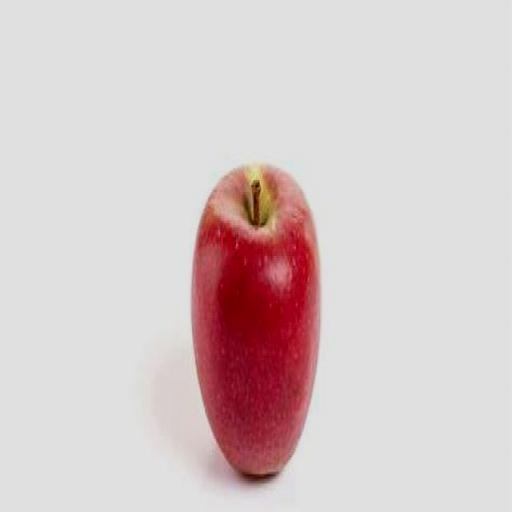fruit: (192, 166, 319, 475)
